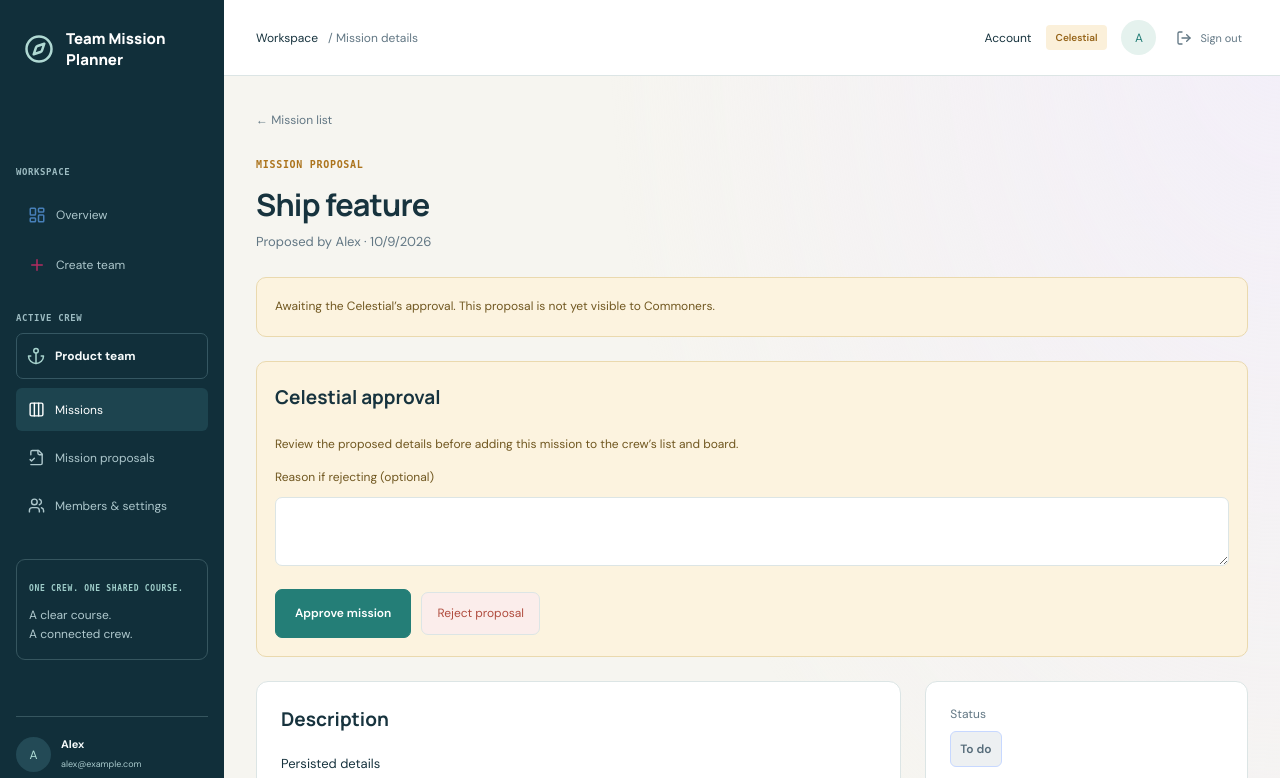
Test: Task workflows › lets the Celestial approve a proposal and opens discussion after approval
The image size is (1280, 778).
Click the button "Approve mission": click(343, 614) [275,589,411,638]
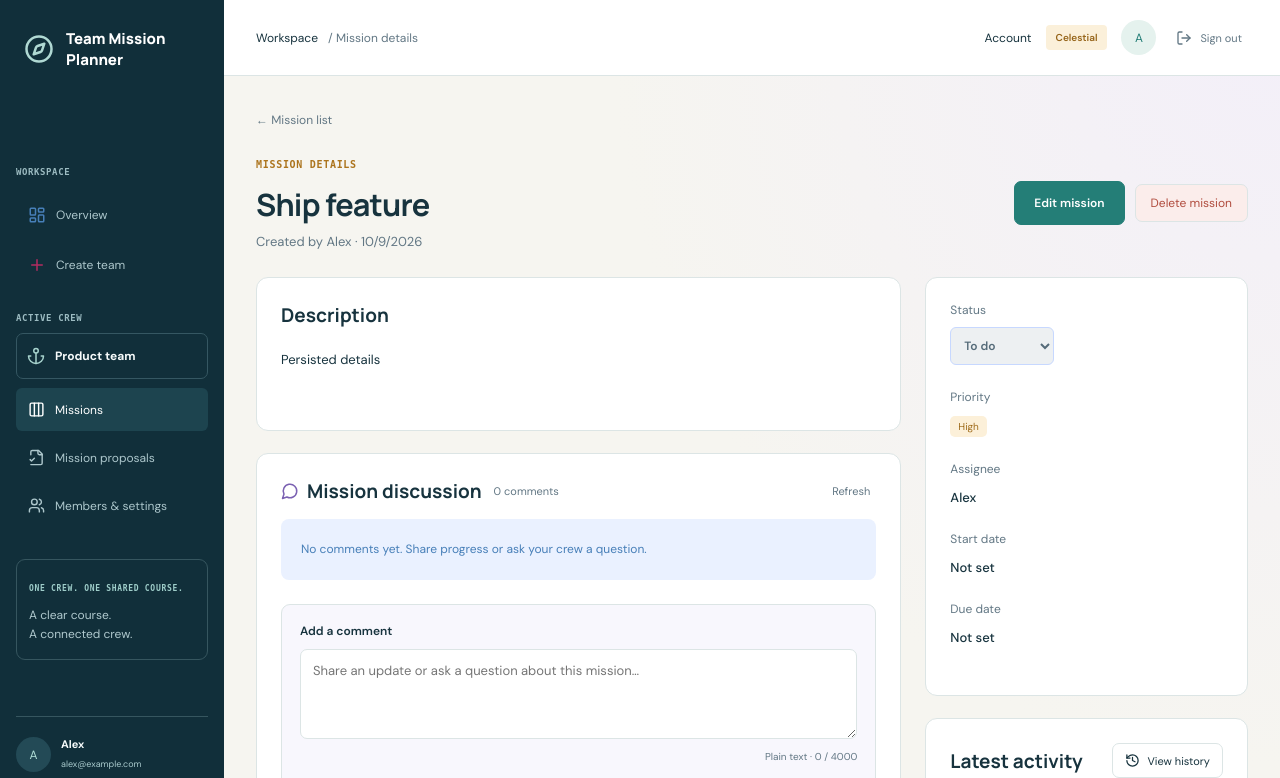
Expected: the heading "Mission discussion" is shown, [281,478,482,504]
Expected: the link "Edit mission" is shown, [1014,180,1125,224]
Expected: the button "Approve mission" is gone
